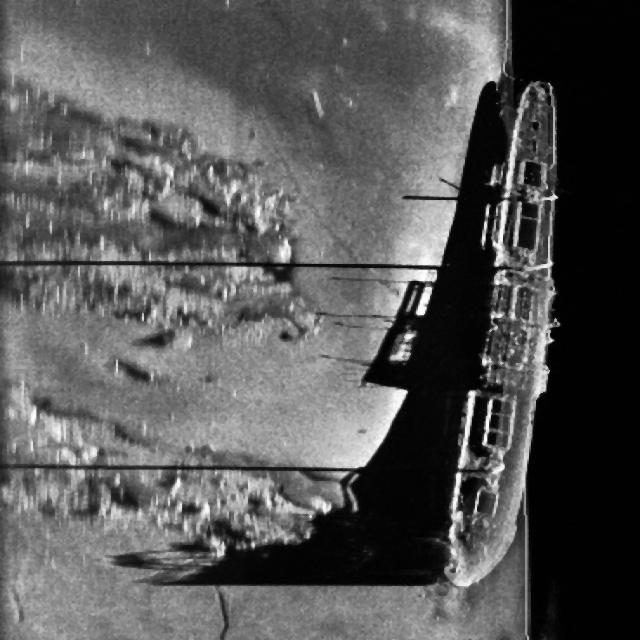Ship: (431, 70, 569, 596)
